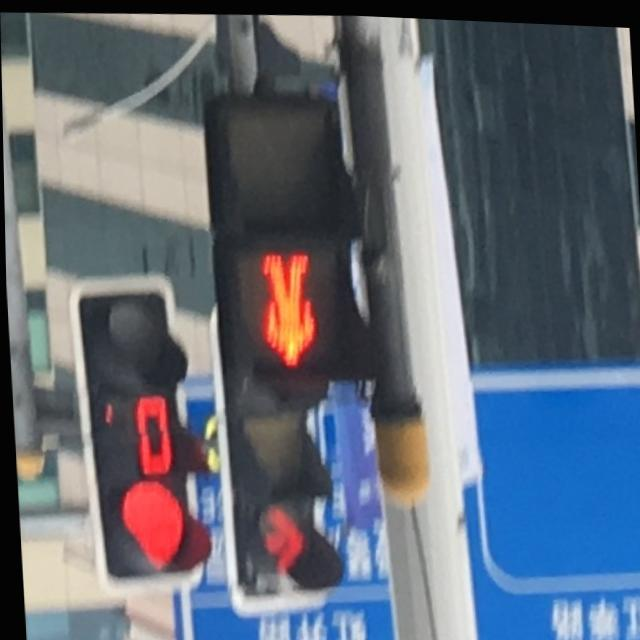red_light: (234, 242, 346, 371)
